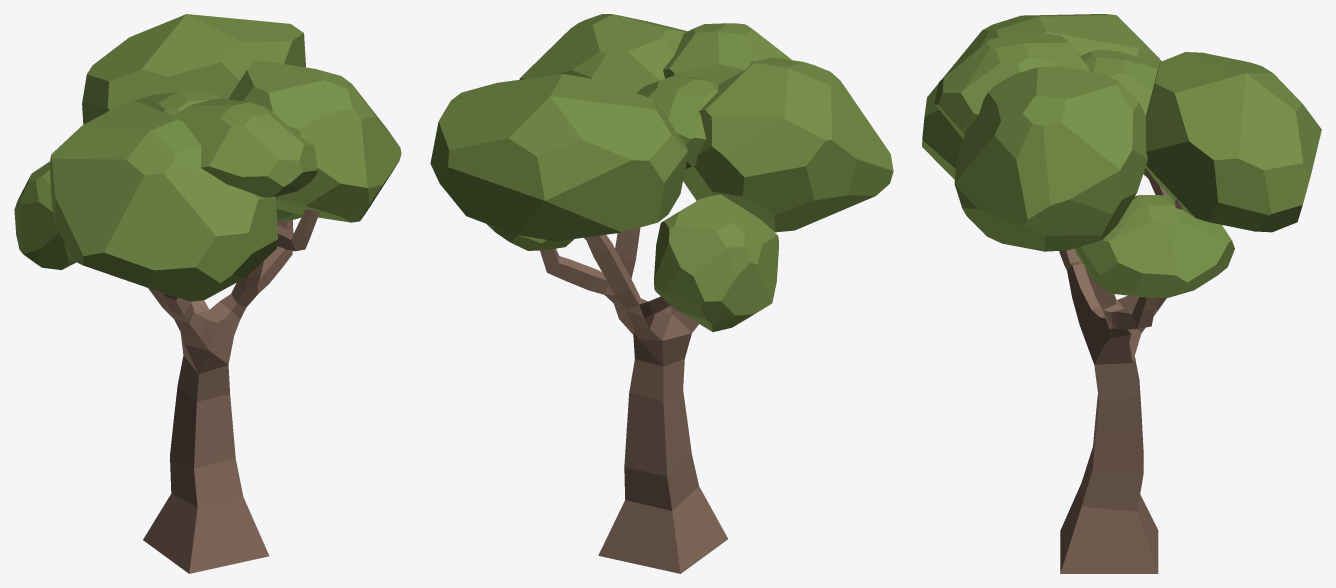
The model's file is Tree_2.fbx.
3 views of the same model, side by side, from view 1: azimuth 30°, elevation 25°; view 2: azimuth 150°, elevation 25°; view 3: azimuth 270°, elevation 25° (orthographic). The views are drawn at different scales.
Visible parts, largest first — view 1: Leaf_03.004, Wood_03, Leaf_03.002, Leaf_03.001, Leaf_03, Leaf_03.003, Leaf_03.006; view 2: Leaf_03.001, Leaf_03.004, Wood_03, Leaf_03.003, Leaf_03.002, Leaf_03, Leaf_03.006, Leaf_03.005; view 3: Leaf_03.002, Leaf_03.001, Wood_03, Leaf_03.005, Leaf_03.004, Leaf_03, Leaf_03.006.
Boxes of the visible parts, <box> form: Leaf_03.004: <box>49,101,277,301</box>; Wood_03: <box>143,209,319,573</box>; Leaf_03.002: <box>228,60,401,222</box>; Leaf_03.001: <box>82,14,305,124</box>; Leaf_03: <box>173,98,317,197</box>; Leaf_03.003: <box>14,161,76,269</box>; Leaf_03.006: <box>132,90,220,115</box>; Leaf_03.001: <box>430,74,688,241</box>; Leaf_03.004: <box>683,57,893,232</box>; Wood_03: <box>540,227,727,573</box>; Leaf_03.003: <box>654,194,778,331</box>; Leaf_03.002: <box>519,14,687,92</box>; Leaf_03: <box>663,23,791,84</box>; Leaf_03.006: <box>637,75,718,169</box>; Leaf_03.005: <box>487,224,573,250</box>; Leaf_03.002: <box>954,66,1147,251</box>; Leaf_03.001: <box>1145,52,1321,232</box>; Wood_03: <box>1059,168,1182,573</box>; Leaf_03.005: <box>1074,195,1234,297</box>; Leaf_03.004: <box>922,14,1161,179</box>; Leaf_03: <box>934,34,1091,138</box>; Leaf_03.006: <box>1081,49,1159,116</box>.
Size of the model in its own units: 180 by 249 by 179.
